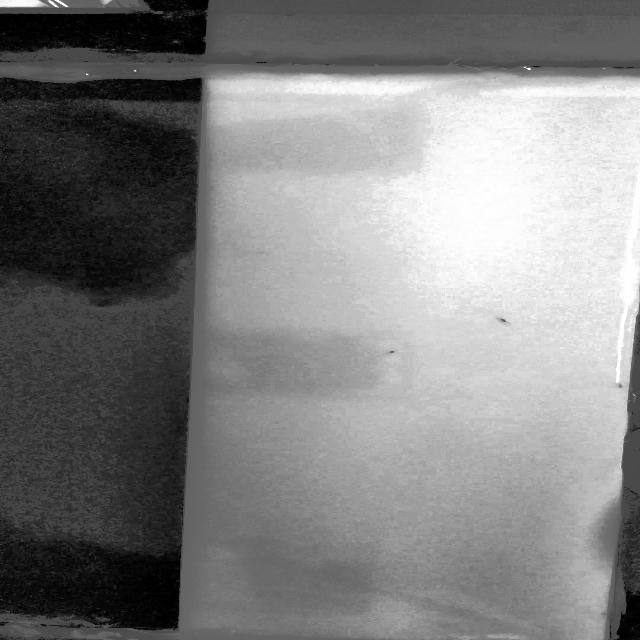shrimp: (483, 313, 527, 334), (371, 347, 409, 362)
